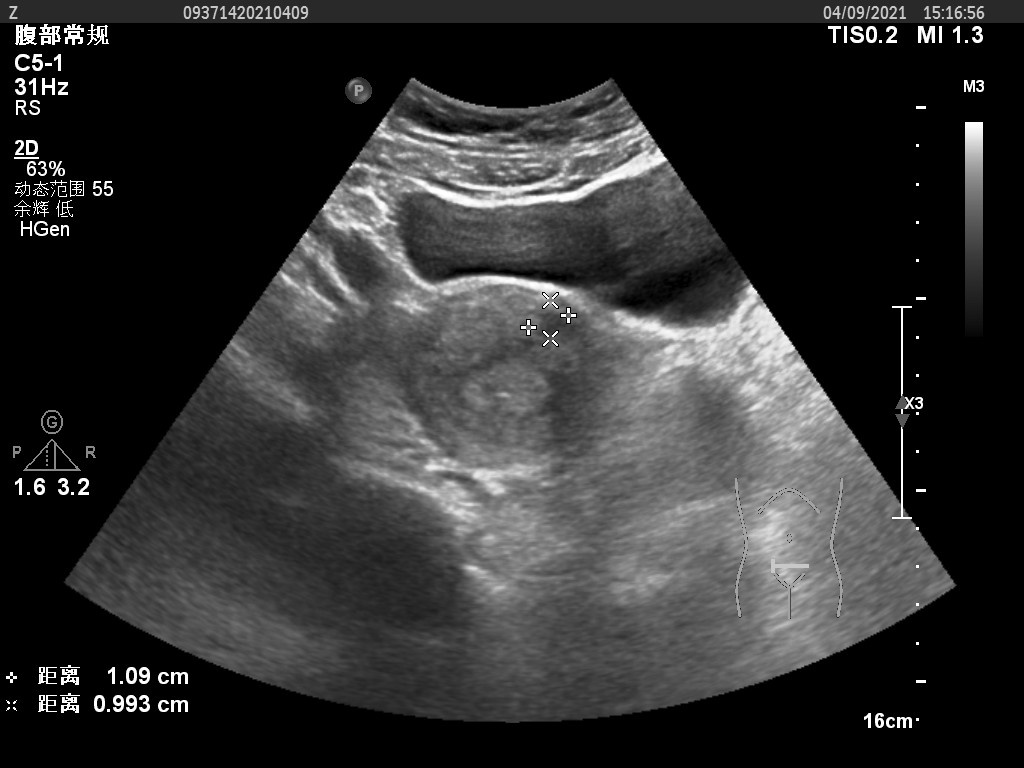肌瘤: (528, 297, 570, 340)
